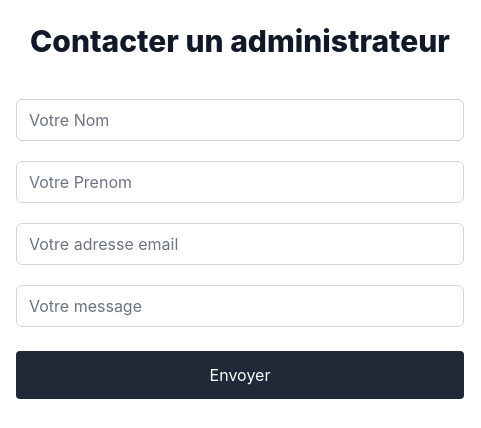
Test: LoginPage › add bad email and get error message
(page scrolled)
Type "j.komwabo" into the field with placeholder "Votre adresse email".
click(240, 244); type("j.komwabo")  # box [16,223,464,265]
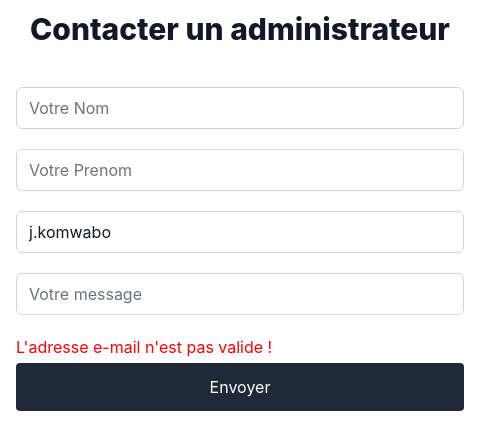
Check: the text with id "errormsg" reads "L'adresse e-mail n'est pas valide !", box [16,337,272,357]
